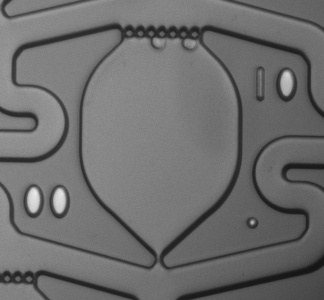AptNum: (241, 60, 301, 108)
Marker: (242, 211, 264, 232)
StNum: (15, 175, 79, 226)
Trap: (130, 257, 187, 300)
